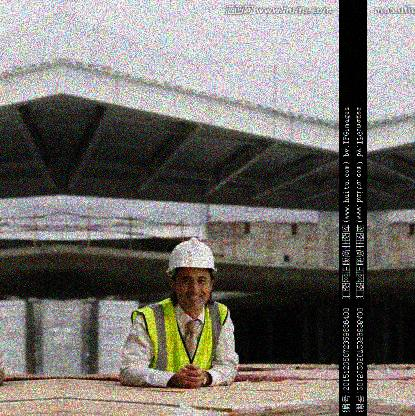helmet: (164, 234, 218, 309)
